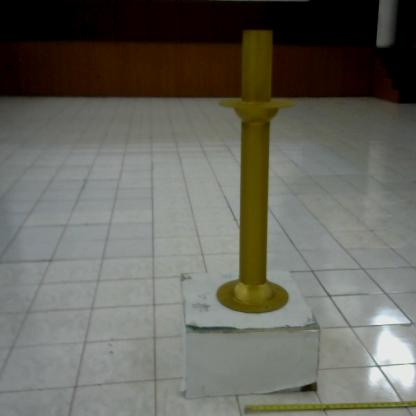pole: (210, 25, 299, 317)
